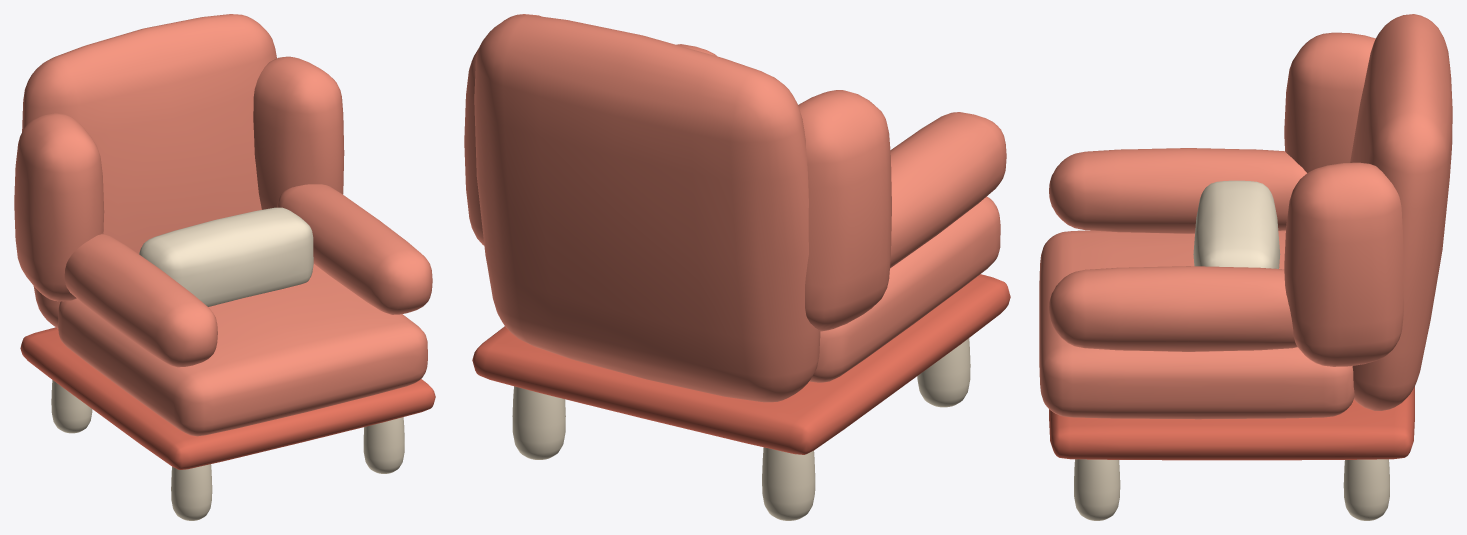
File: armchair_c.glb
3 renders of one model, left to right at view 1: azimuth 30°, elevation 25°; view 2: azimuth 150°, elevation 25°; view 3: azimuth 270°, elevation 25°, orthographic. The views are drawn at different scales.
Parts seen in each view (by area): view 1: body; view 2: body; view 3: body.
Boxes of the visible parts, x1,y1,x2,y2 form: body: [14, 14, 435, 520]; body: [464, 14, 1010, 520]; body: [1039, 14, 1452, 520].
Size of the model in its own units: 0.8435 by 0.9331 by 0.8578.
